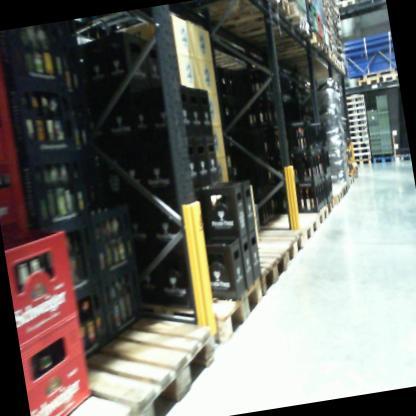pallet: (66, 299, 225, 416), (134, 269, 278, 359), (213, 0, 313, 52), (238, 224, 306, 279), (237, 24, 324, 64), (200, 0, 293, 33), (262, 205, 324, 250), (255, 245, 300, 301), (30, 389, 120, 416), (273, 42, 330, 69), (305, 51, 342, 73), (309, 200, 333, 230), (359, 66, 395, 81), (353, 72, 381, 91), (330, 180, 349, 201), (372, 152, 396, 167), (325, 193, 339, 213), (343, 93, 366, 105), (328, 190, 345, 206), (342, 113, 367, 123), (347, 133, 369, 144), (396, 149, 411, 165), (352, 156, 372, 168), (334, 57, 346, 76), (346, 127, 368, 137), (351, 146, 371, 156), (382, 71, 398, 83), (347, 124, 368, 133), (346, 118, 367, 127), (347, 106, 368, 115), (352, 153, 374, 161), (347, 172, 358, 188), (345, 102, 366, 110), (350, 140, 370, 148)
